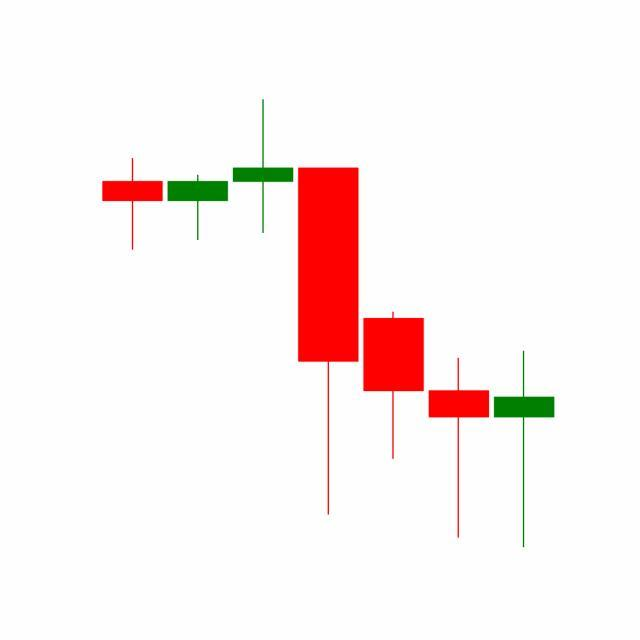Hikkake Pattern: (165, 100, 492, 544)
